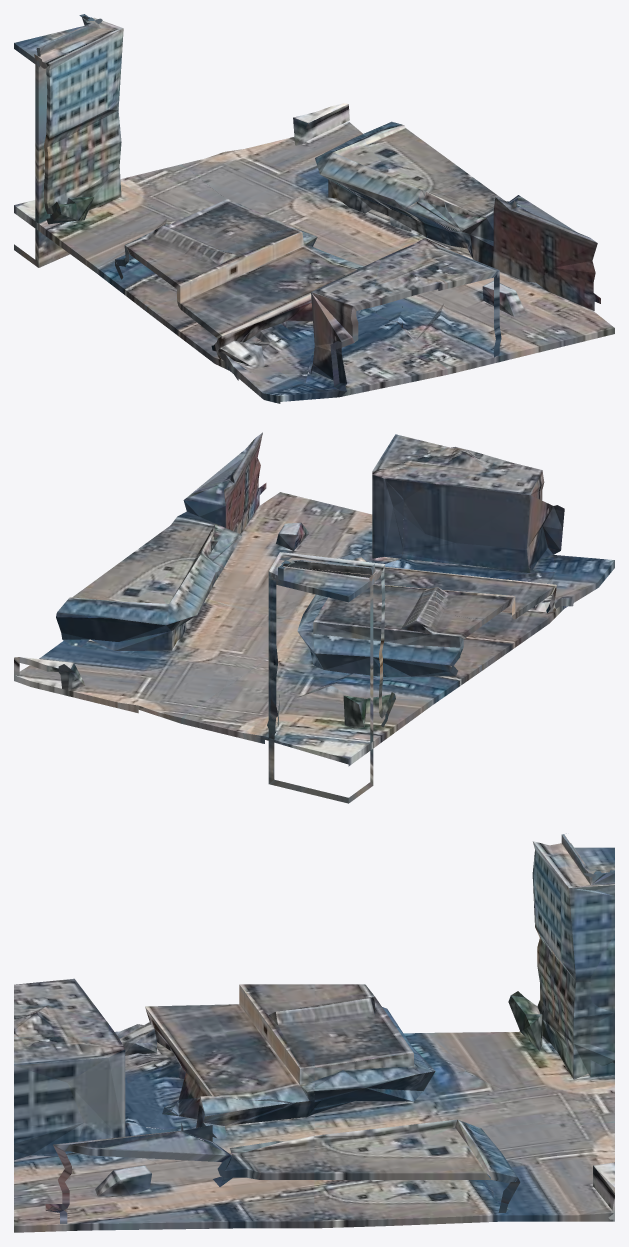
Rendered from chunk_-10_0.glb.
3 views of the same model, one above another, from view 1: azimuth 30°, elevation 25°; view 2: azimuth 150°, elevation 25°; view 3: azimuth 270°, elevation 25° (orthographic). The views are drawn at different scales.
Parts seen in each view (by area): view 1: hero-chunk; view 2: hero-chunk; view 3: hero-chunk.
Boxes of the visible parts, <box> form: hero-chunk: <box>14,14,614,403</box>; hero-chunk: <box>14,432,614,803</box>; hero-chunk: <box>14,833,614,1232</box>.
Size of the model in its own units: 55.73 by 34.93 by 76.33.
Materials: 2 (2 with a texture image).
